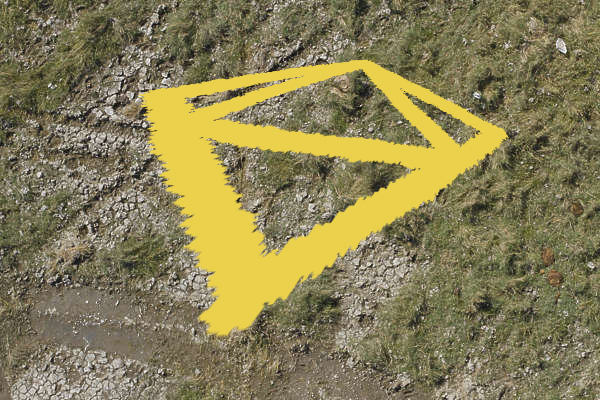marker: (136, 54, 512, 350)
